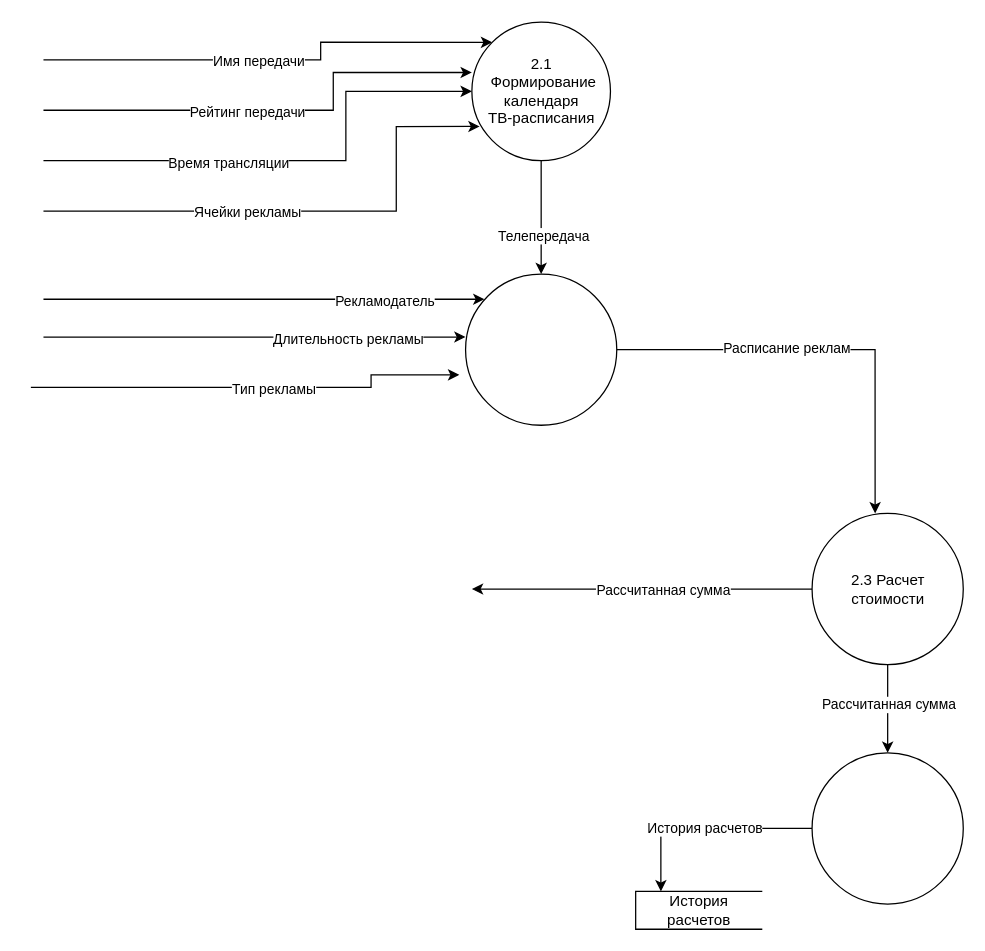
Image size: 985x951. Some labels were removed from this diagram. The centre of each missing label's shape, as x and y in pixels:
"2.2 Запись рекламных данных в расписание" goes at point 540,349.
"2.4 Запись истории расчетов" goes at point 887,828.
